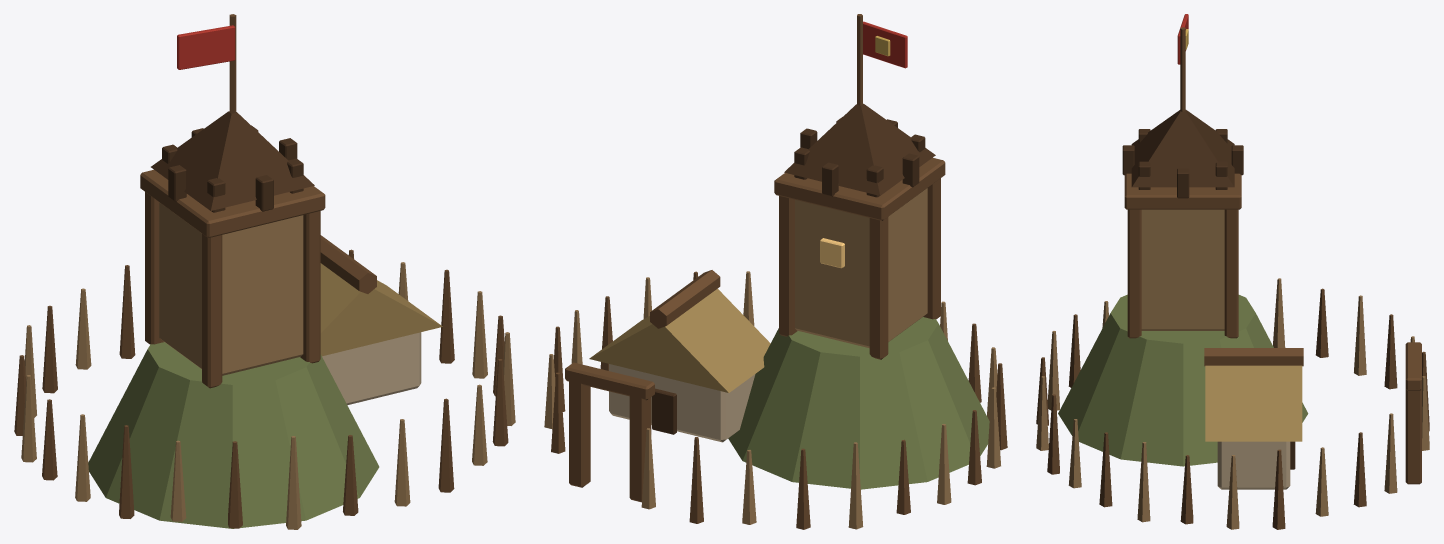
The model's file is world_keep.fbx.
The picture shows the model from 3 angles, left to right: view 1: azimuth 30°, elevation 25°; view 2: azimuth 150°, elevation 25°; view 3: azimuth 270°, elevation 25°; orthographic projection. The views are drawn at different scales.
Parts seen in each view (by area): view 1: Building; view 2: Building; view 3: Building.
Boxes of the visible parts, left/top/right/bottom form: Building: left=14, top=14, right=515, bottom=529; Building: left=544, top=14, right=1007, bottom=529; Building: left=1036, top=14, right=1429, bottom=529.
Bounding box in the file's own units: 2.17 × 1.95 × 2.11.
